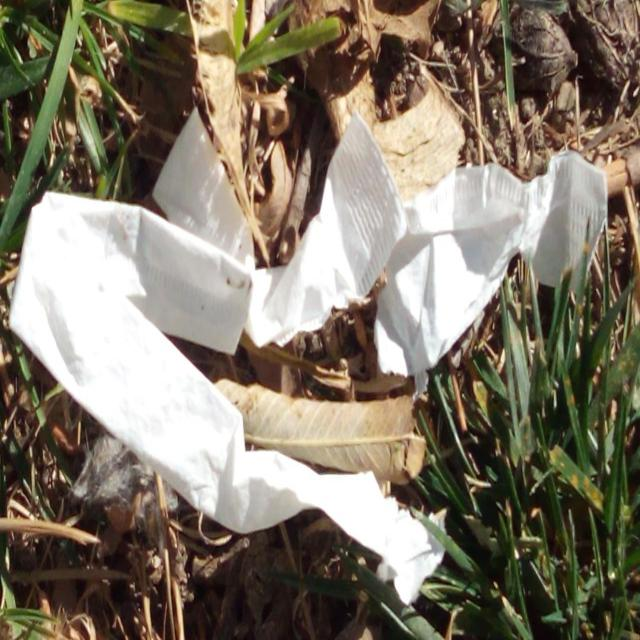litter: (4, 106, 609, 609)
